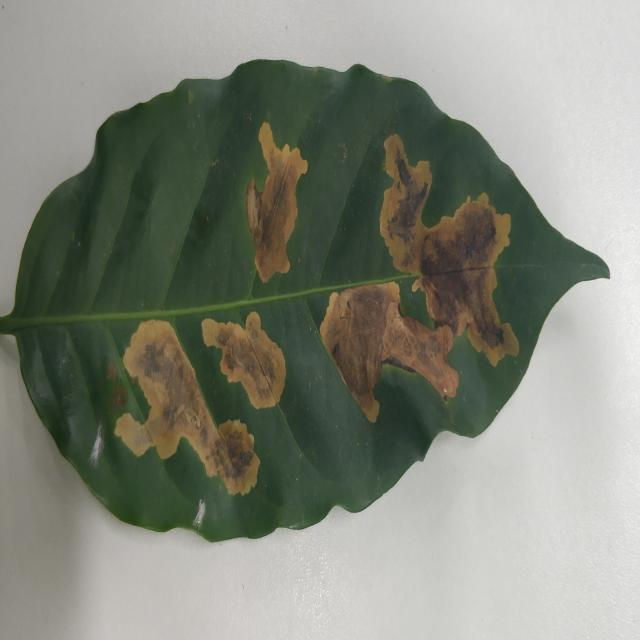Plaga-Minador: (0, 60, 612, 545)
